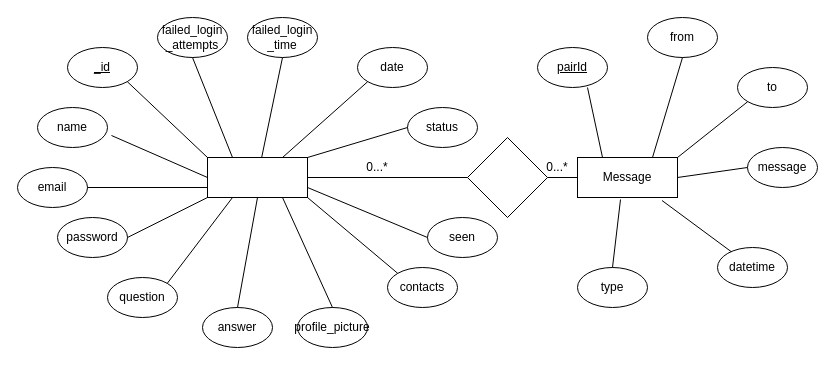
Some shapes in this 835 by 365 pixel diagram are drawn without their labels. The centre of each missing label's shape, as x and y in pixels:
"send" belongs at point (507, 177).
"User" belongs at point (257, 177).
